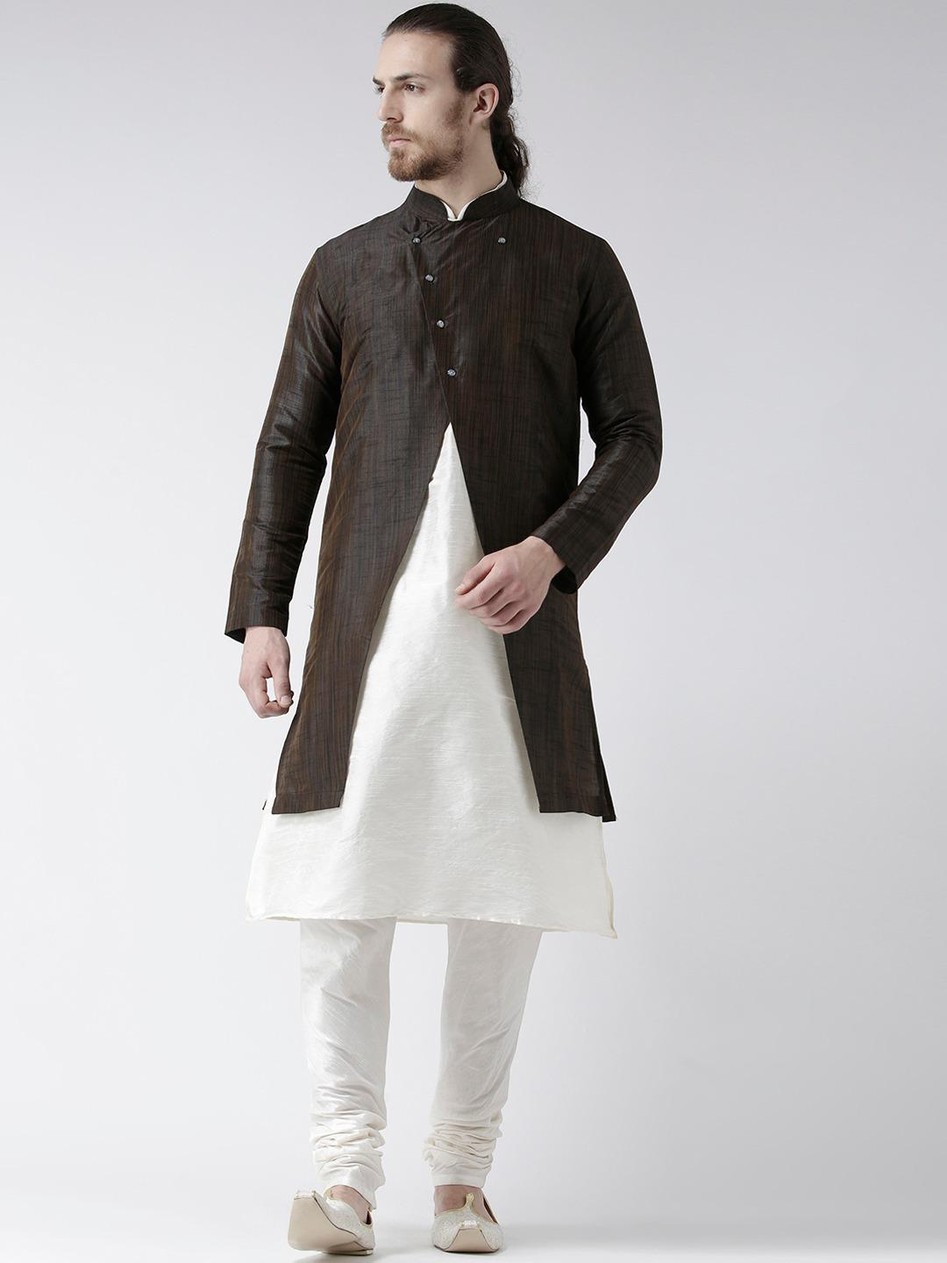Plain Sherwani: (220, 175, 667, 826)
